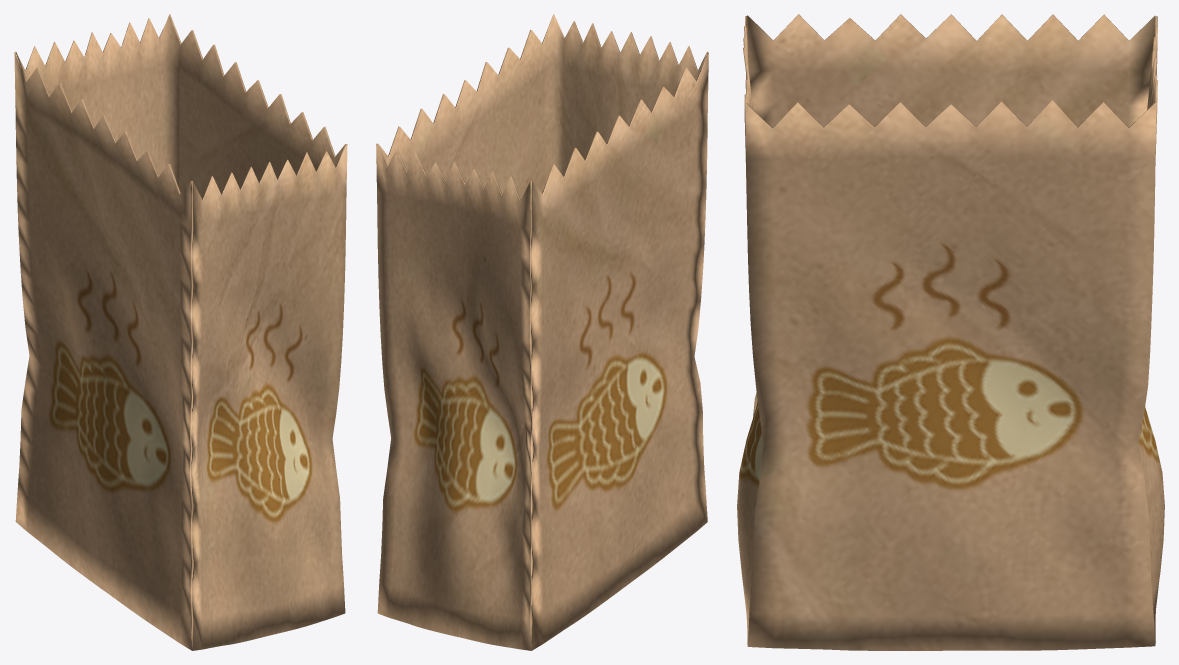
Rendered from Paper_Bag(ex).fbx.
3 renders of one model, left to right at view 1: azimuth 30°, elevation 25°; view 2: azimuth 150°, elevation 25°; view 3: azimuth 270°, elevation 25°, orthographic. The views are drawn at different scales.
Visible parts, largest first — view 1: Object_2; view 2: Object_2; view 3: Object_2.
Boxes of the visible parts, box(x1,y1,x2,y2) form: Object_2: box(14, 14, 347, 650); Object_2: box(376, 14, 708, 650); Object_2: box(737, 14, 1164, 650).
Bounding box in the file's own units: 89.17 × 251 × 177.
